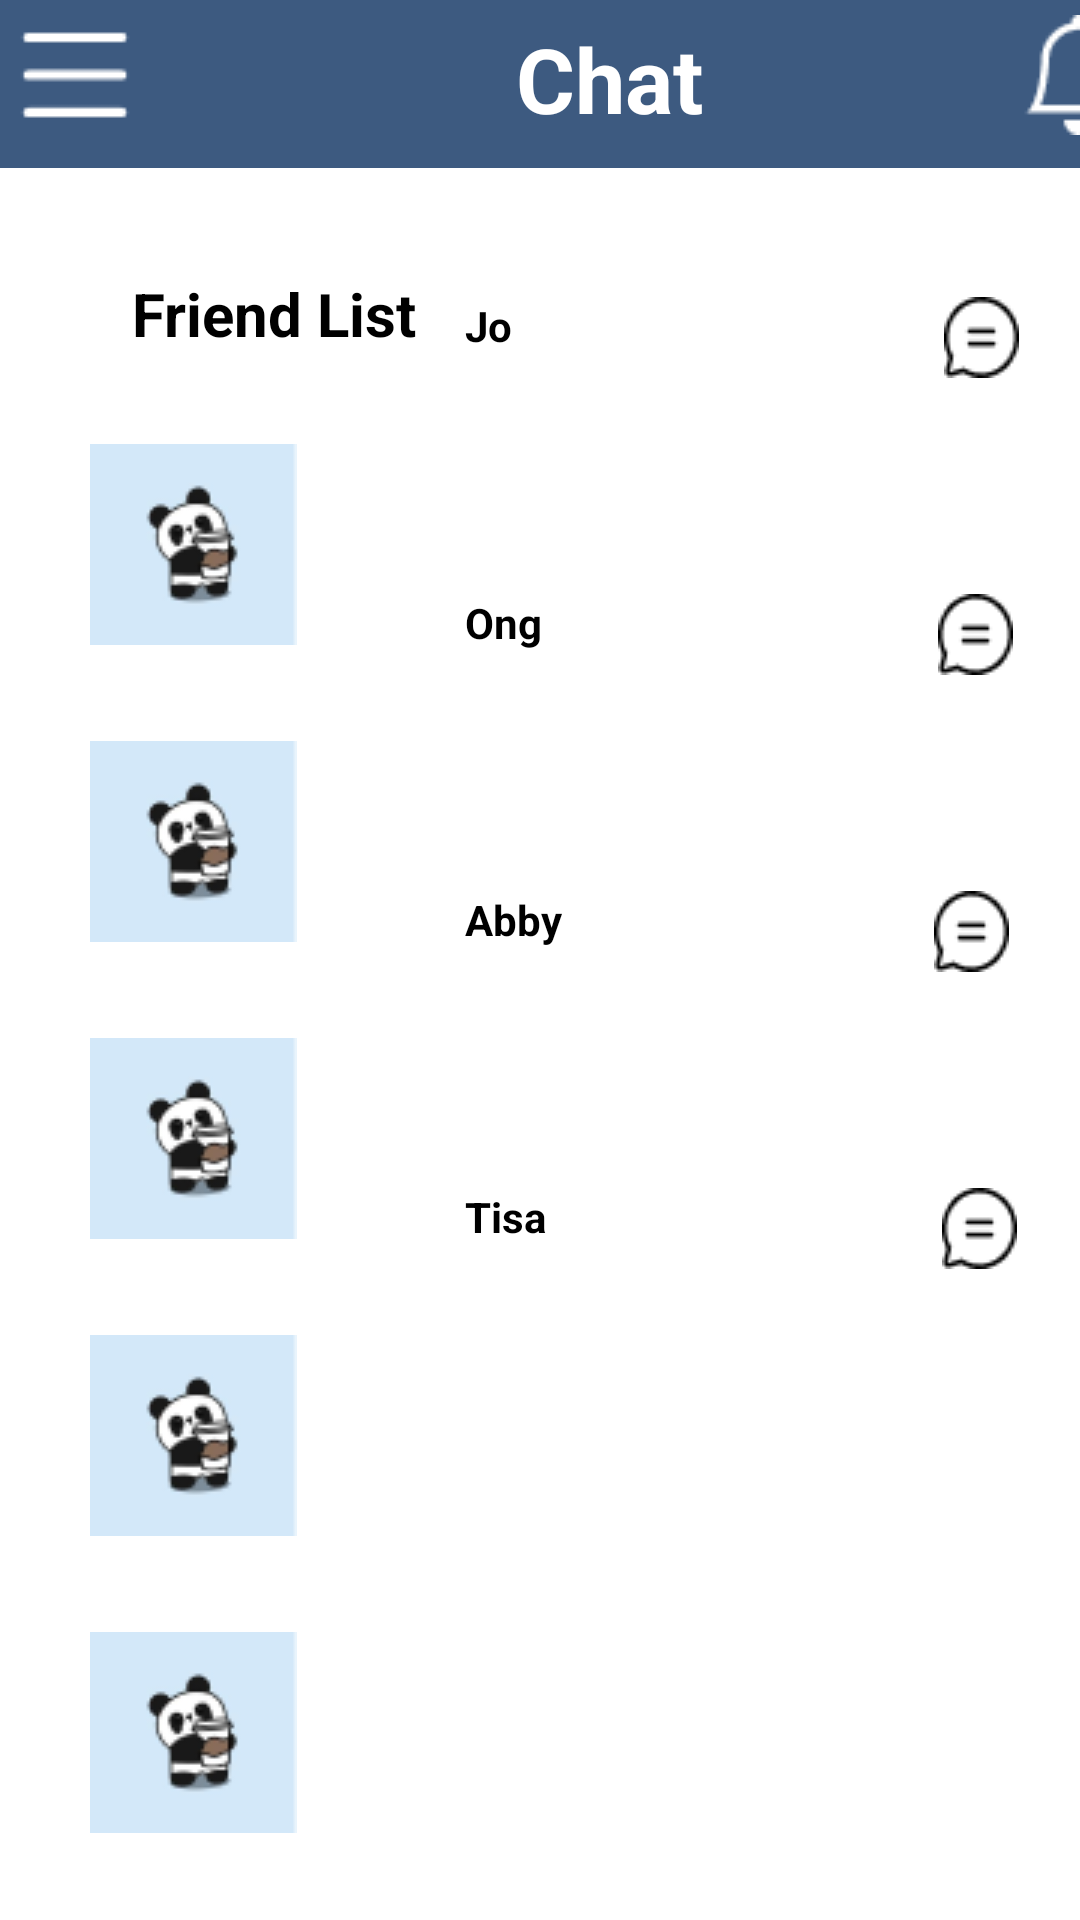

Icons on this 1080 × 1920 Android screen, each with the point to tap as (x,y):
listicon: (75,75)
messageicon: (981,337), (975,634), (971,931), (979,1228)
profilepanda: (192,544), (192,841), (192,1138), (192,1435), (192,1732)
